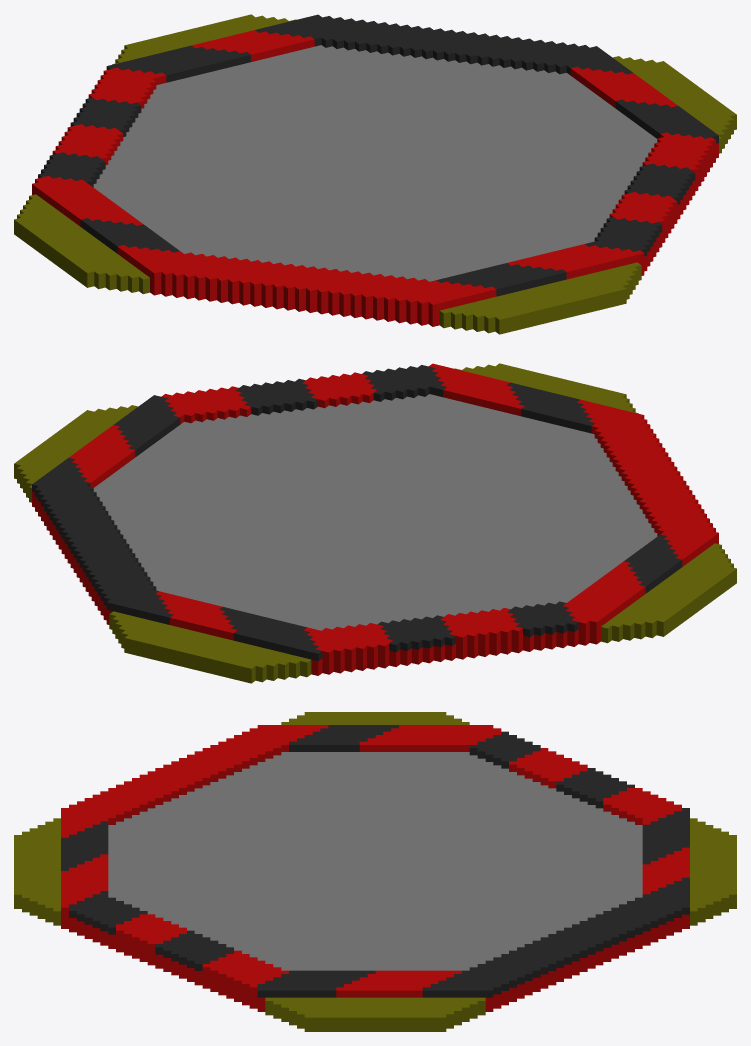
File: NodRepairBay.obj
3 views of the same model, one above another, from view 1: azimuth 30°, elevation 25°; view 2: azimuth 150°, elevation 25°; view 3: azimuth 270°, elevation 25° (orthographic). The views are drawn at different scales.
Size of the model in its own units: 9.2 by 0.3 by 9.2.
Materials: 1 (1 with a texture image).
